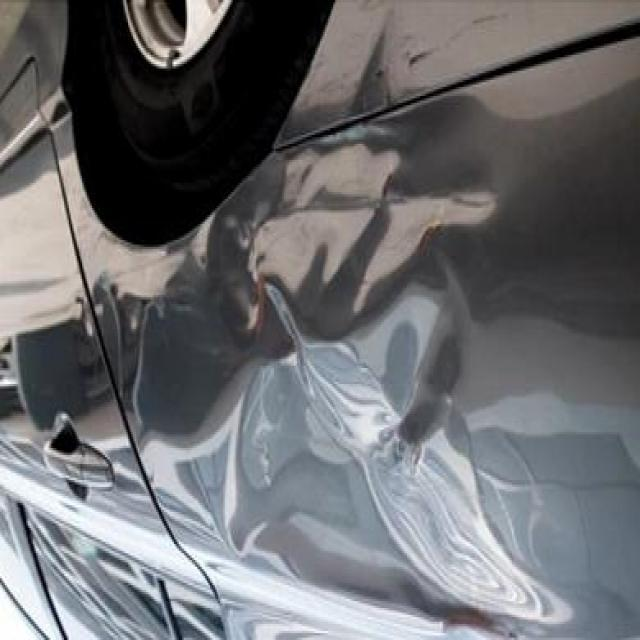dent: (166, 178, 464, 597)
